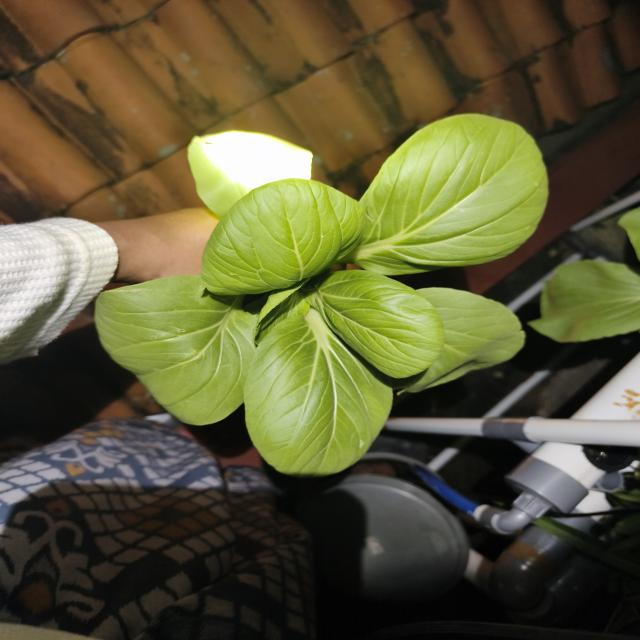daun-pakcoy: (356, 114, 546, 273), (244, 308, 392, 476), (95, 275, 258, 425), (201, 178, 364, 295), (311, 271, 444, 379), (400, 288, 524, 393), (188, 131, 312, 218)
